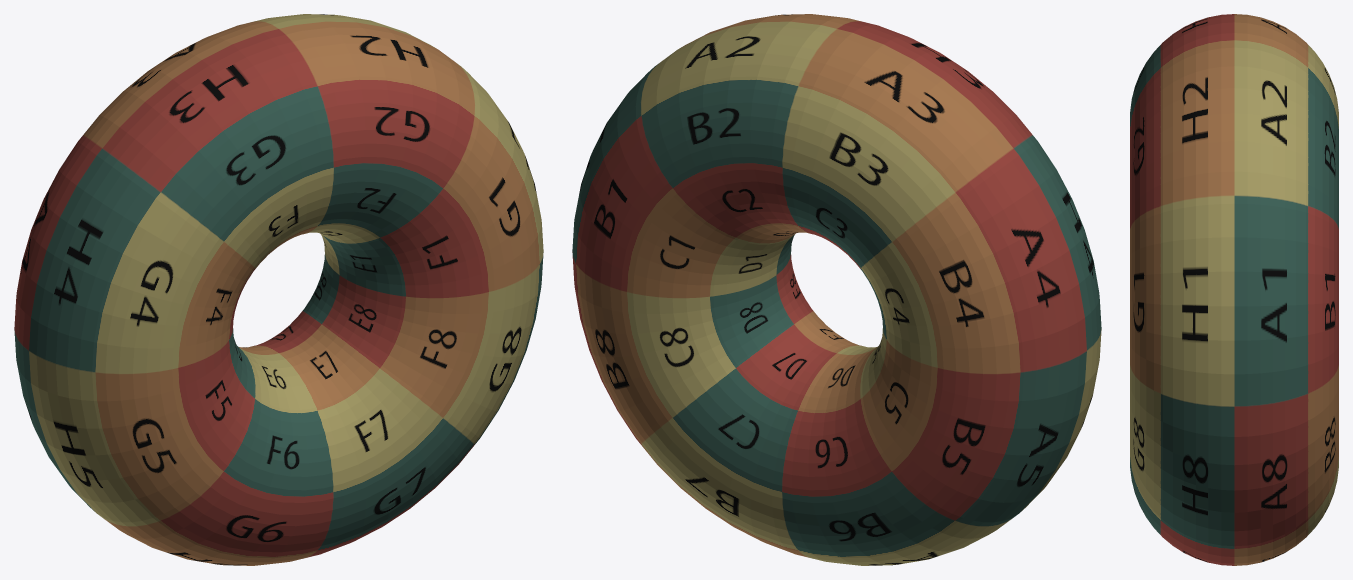
Rendered from texture_torus_R5_r23.glb.
3 views of the same model, side by side, from view 1: azimuth 30°, elevation 25°; view 2: azimuth 150°, elevation 25°; view 3: azimuth 270°, elevation 25° (orthographic). The views are drawn at different scales.
Visible parts, largest first — view 1: world; view 2: world; view 3: world.
Boxes of the visible parts, box(x1,y1,x2,y2) form: world: box(14, 14, 543, 565); world: box(572, 14, 1101, 565); world: box(1130, 14, 1338, 565).
Bounding box in the file's own units: 21.47 × 21.42 × 8.12.
1 material, 1 textured.
